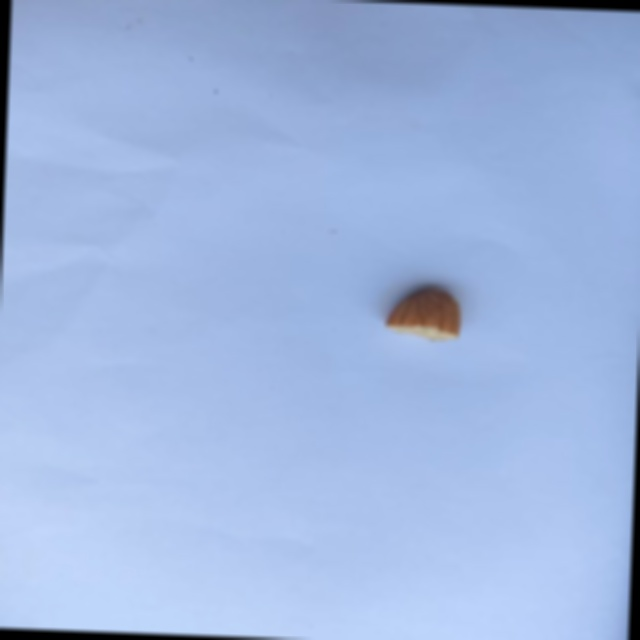grade4: (376, 280, 469, 346)
